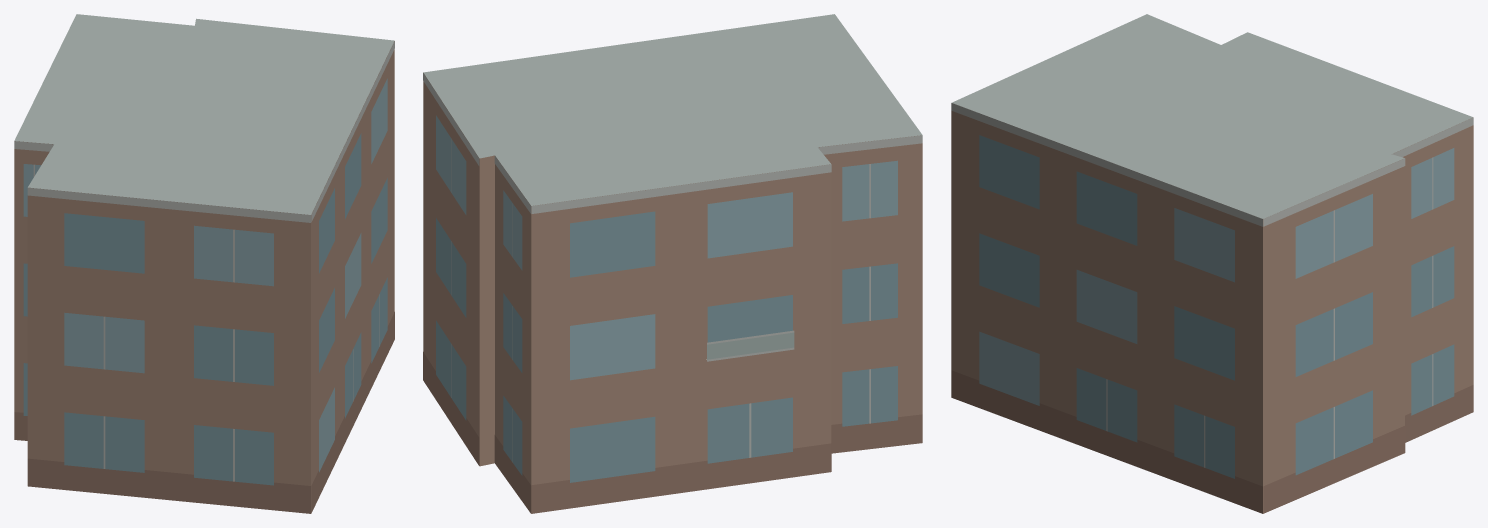
The model's file is survey-upis-32785936.glb.
The picture shows the model from 3 angles, left to right: view 1: azimuth 30°, elevation 25°; view 2: azimuth 150°, elevation 25°; view 3: azimuth 270°, elevation 25°; orthographic projection. The views are drawn at different scales.
Parts seen in each view (by area): view 1: survey-upis-32785936.tmp; view 2: survey-upis-32785936.tmp; view 3: survey-upis-32785936.tmp.
Boxes of the visible parts, x1,y1,x2,y2 form: survey-upis-32785936.tmp: [14, 14, 394, 513]; survey-upis-32785936.tmp: [423, 14, 922, 513]; survey-upis-32785936.tmp: [951, 14, 1473, 513].
Bounding box in the file's own units: 13.66 × 9.15 × 14.69.
